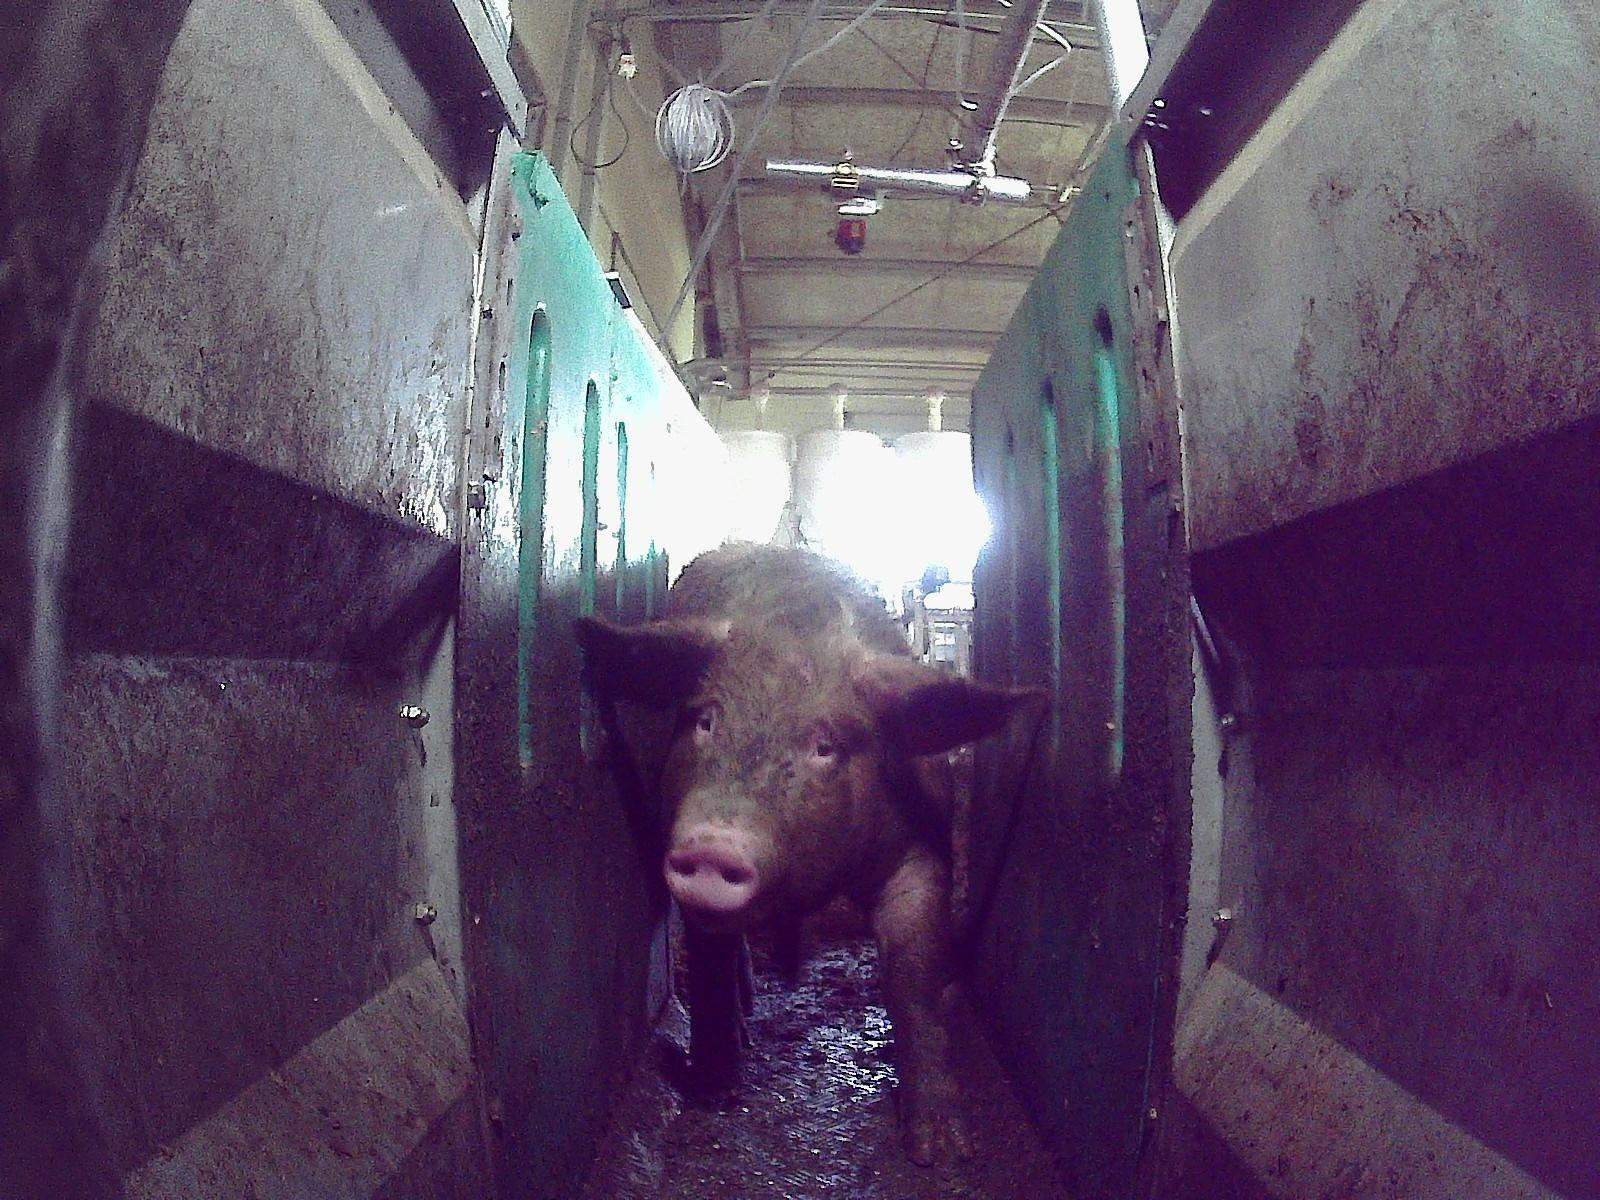Face: (662, 628, 884, 928)
